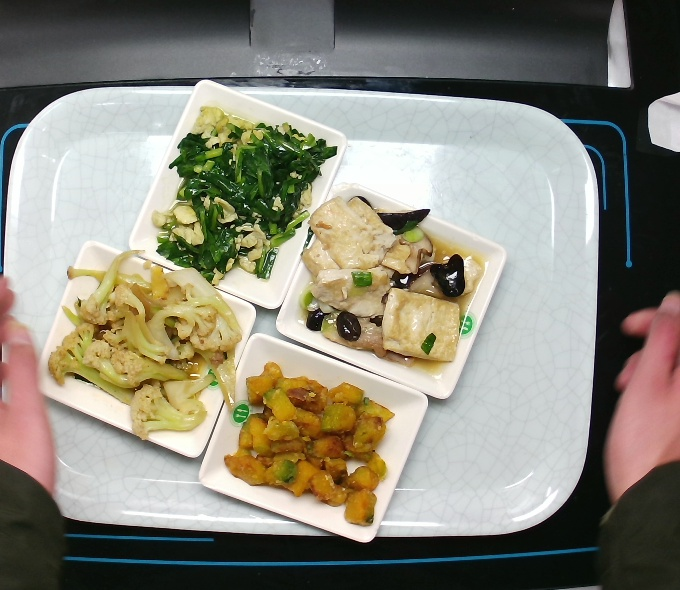wcq-DanHuangNanGua: (217, 356, 398, 529)
wcq-JiaChangDouFu: (286, 197, 484, 373)
wcq-JiuCaiJiDan: (154, 103, 328, 288)
wcq-QiuCai: (49, 246, 241, 442)
